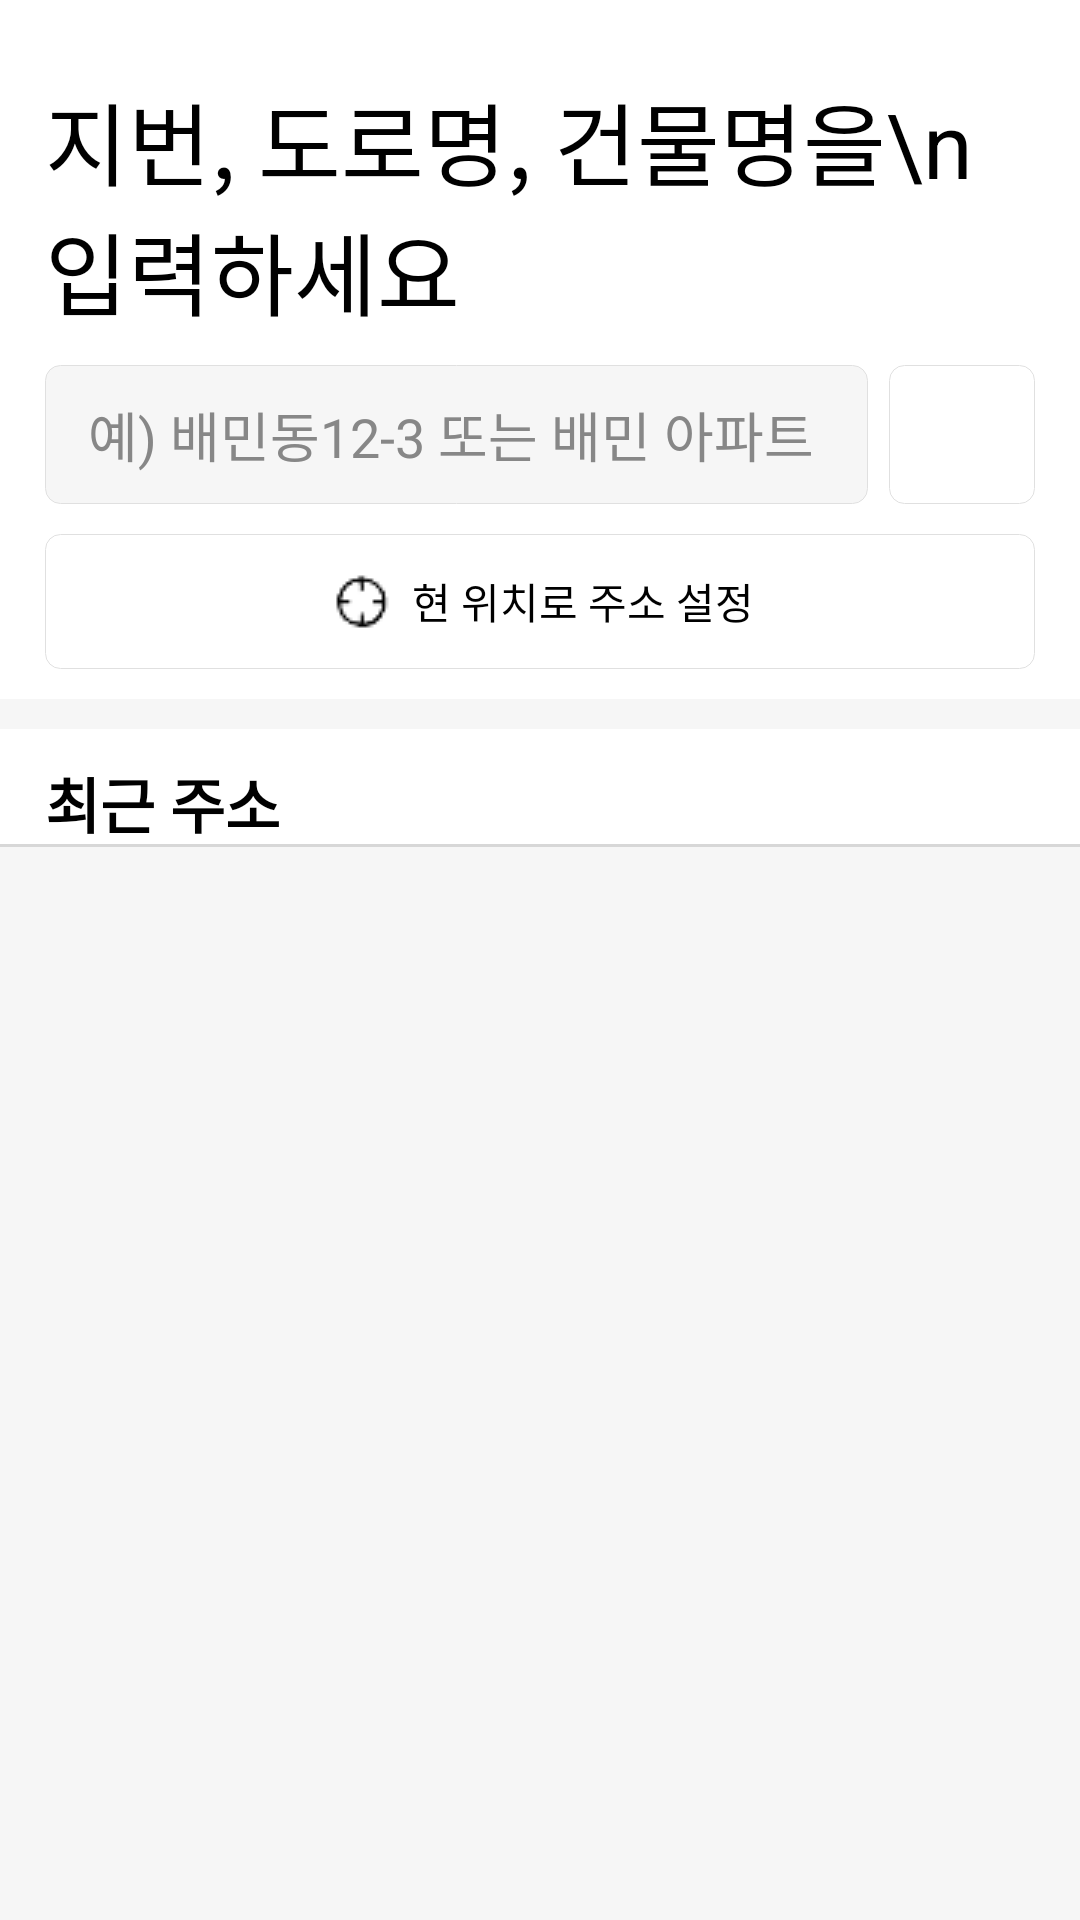

Icons on this 1080px×1920px Android screen, each with its box as (x1, y1, x2, y2):
location: (336, 575, 388, 628)
